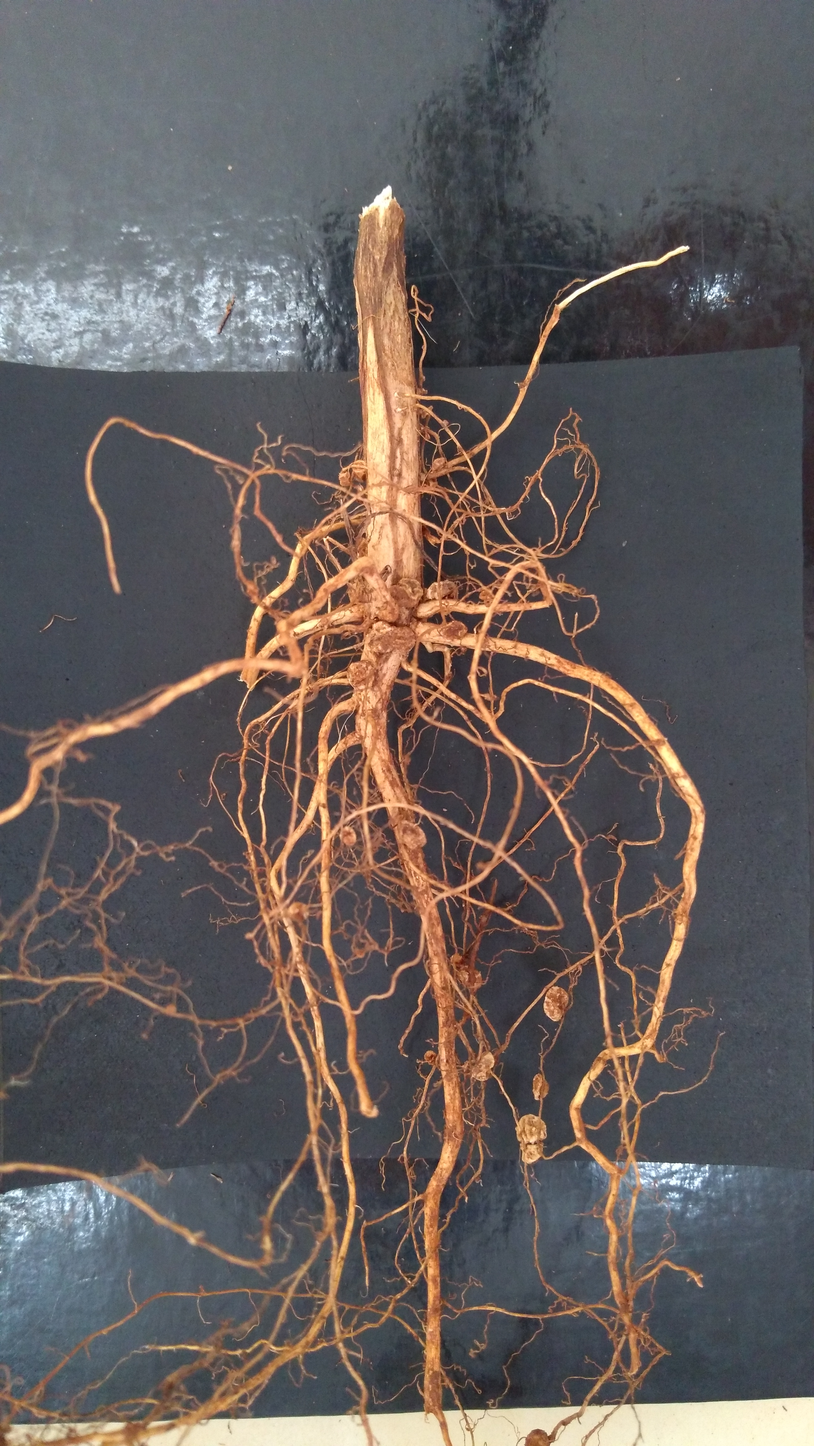nodule: (366, 618, 419, 661), (539, 982, 576, 1028), (382, 575, 424, 612), (395, 816, 434, 852), (514, 1109, 550, 1147), (432, 614, 472, 644), (453, 964, 486, 995), (514, 1139, 549, 1167), (344, 658, 374, 690), (370, 589, 399, 622), (469, 1048, 495, 1084), (424, 577, 461, 602), (527, 1070, 555, 1103), (519, 1420, 554, 1445), (347, 573, 369, 604), (335, 821, 360, 846), (350, 459, 374, 480), (419, 1049, 442, 1068), (429, 456, 449, 473), (336, 469, 352, 490), (399, 602, 412, 625), (422, 431, 431, 440), (316, 665, 324, 672), (442, 420, 449, 426)
